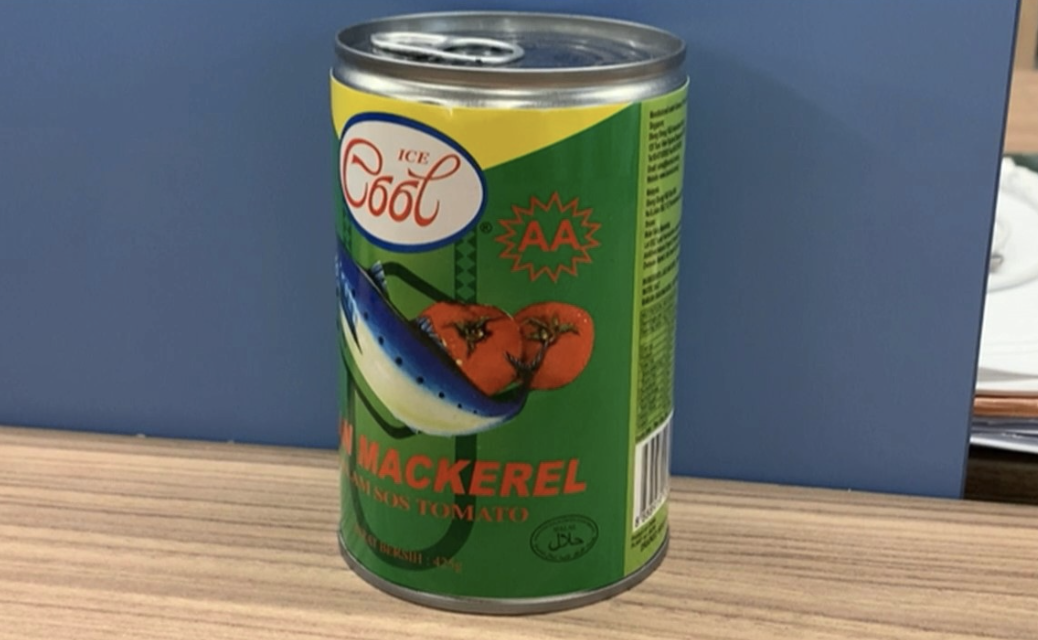sardines_450g: (343, 65, 671, 568)
